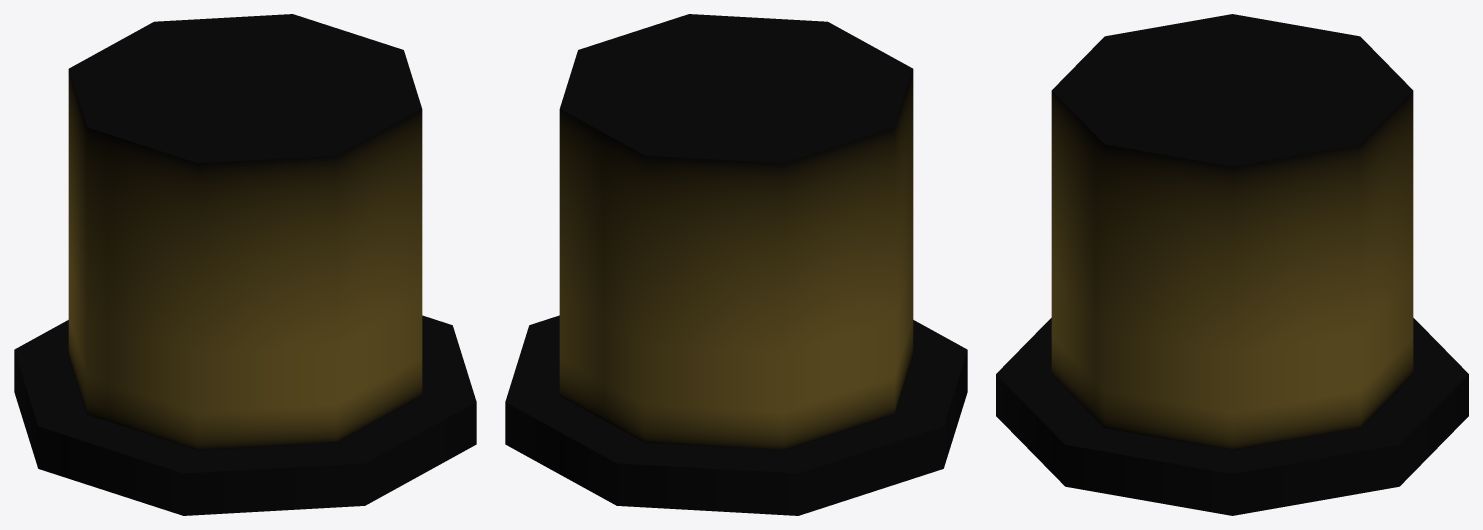
File: tophat.obj
3 renders of one model, left to right at view 1: azimuth 30°, elevation 25°; view 2: azimuth 150°, elevation 25°; view 3: azimuth 270°, elevation 25°, orthographic.
Visible parts, largest first — view 1: tophat; view 2: tophat; view 3: tophat.
Part boxes in pixels (x1=…): tophat: x1=14, y1=14, x2=476, y2=515; tophat: x1=505, y1=14, x2=967, y2=515; tophat: x1=996, y1=14, x2=1468, y2=515.
Size of the model in its own units: 0.4294 by 0.3263 by 0.4294.
